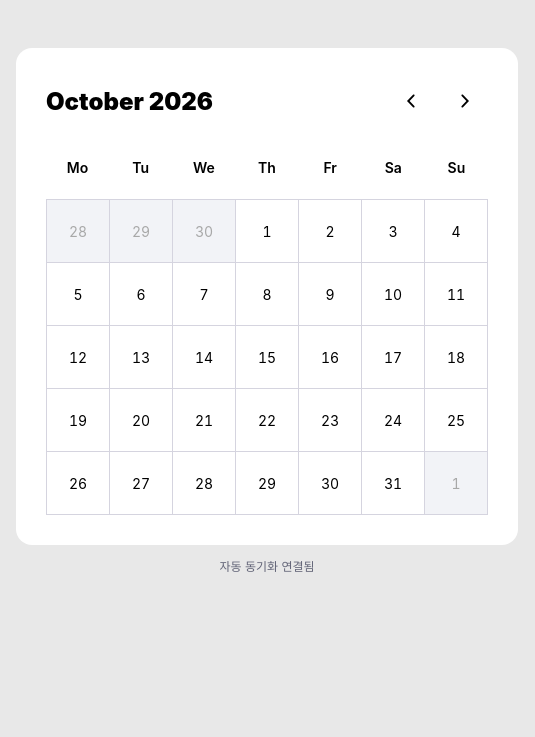
Test: 조회 실패는 빈 상태와 구분되고 다시 불러오기로 복구한다
The width and height of the screenshot is (535, 737).
Click the button named "2026년 10월 7일 수요일".
click(204, 294)  # box [173,263,235,325]
(page scrolled)
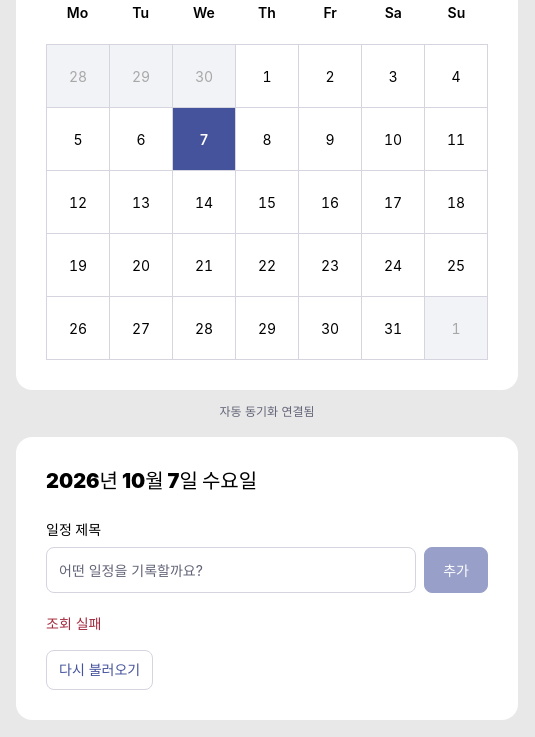
Check: the text "조회 실패" is shown, box [46,615,102,632]
Click the button "다시 불러오기".
click(100, 670)  # box [46,650,153,690]
(page scrolled)
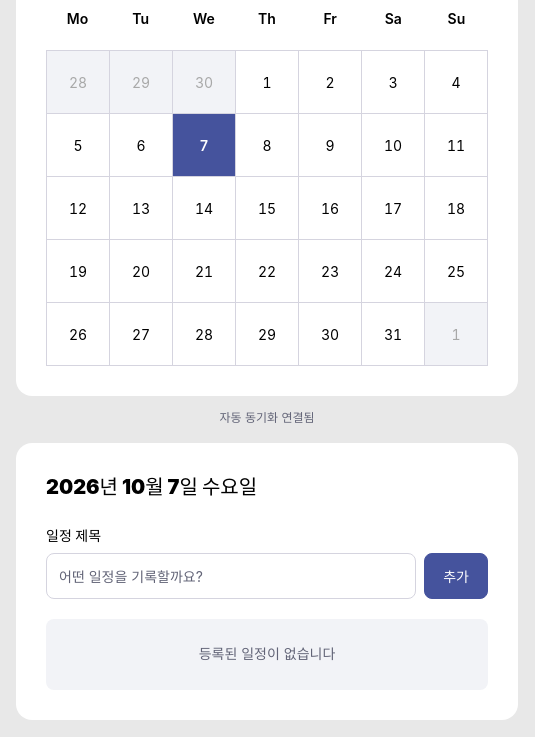
Check: the text "등록된 일정이 없습니다" is shown, box [46,619,488,690]
